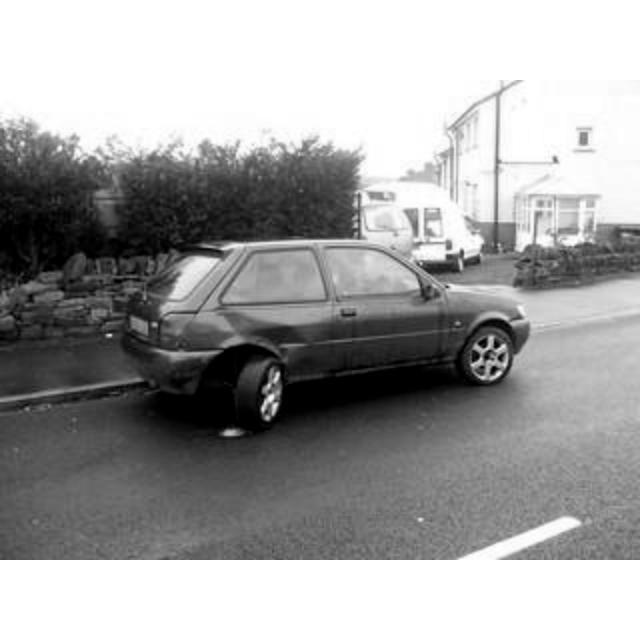quaterpanel-dent: (176, 308, 330, 366)
